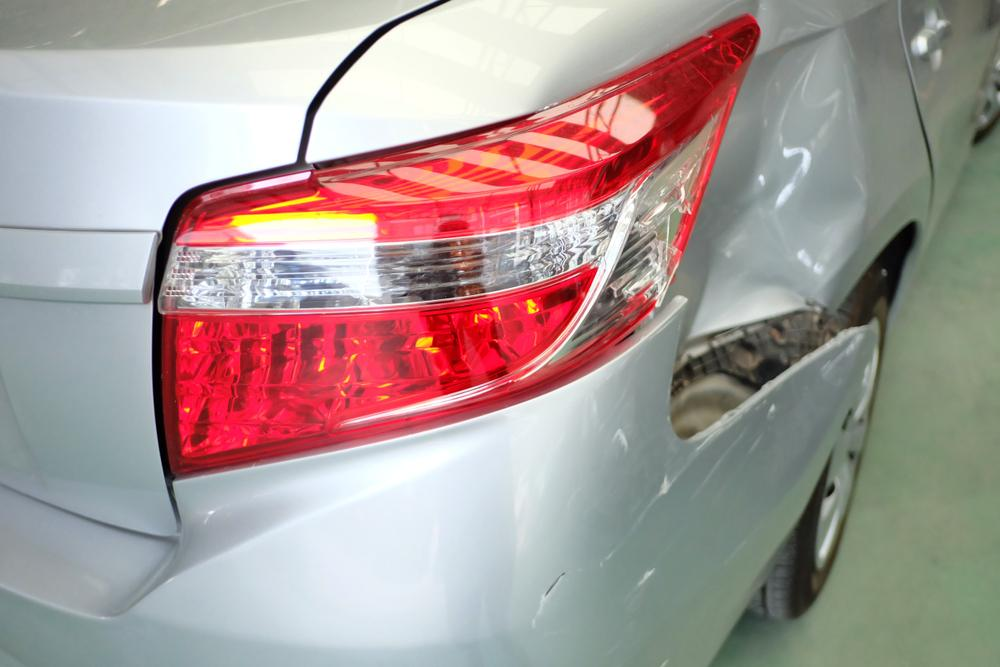dent: (681, 0, 871, 338)
lamp broken: (155, 14, 764, 479)
scratch: (531, 339, 861, 633)
